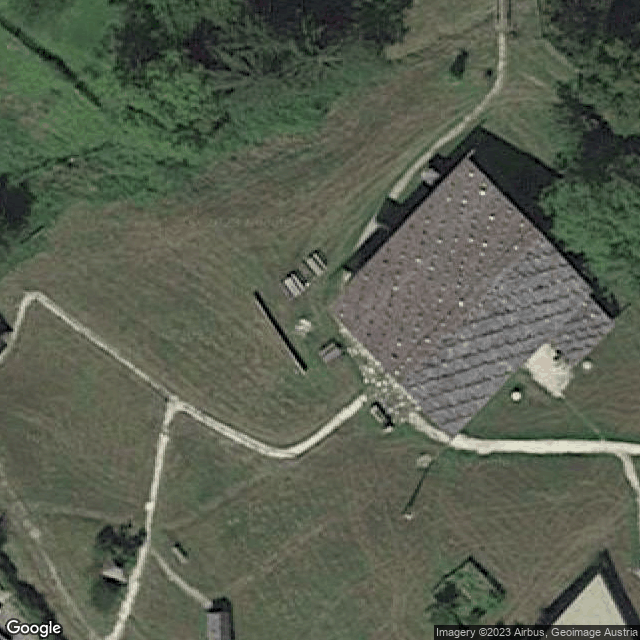ridge: (400, 236, 541, 382)
roof: (328, 158, 614, 438)
